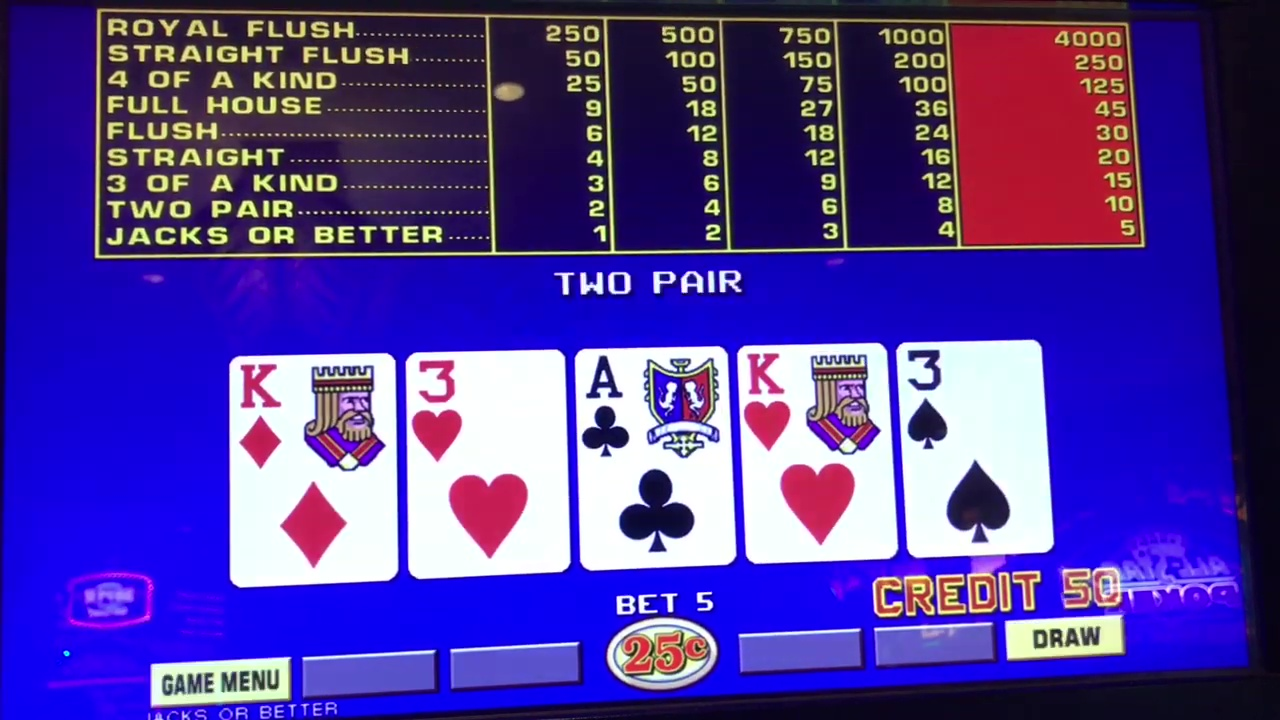CA: (583, 348, 731, 465)
DK: (238, 355, 389, 478)
H3: (413, 353, 566, 472)
HK: (747, 344, 890, 461)
S3: (905, 345, 1047, 458)
